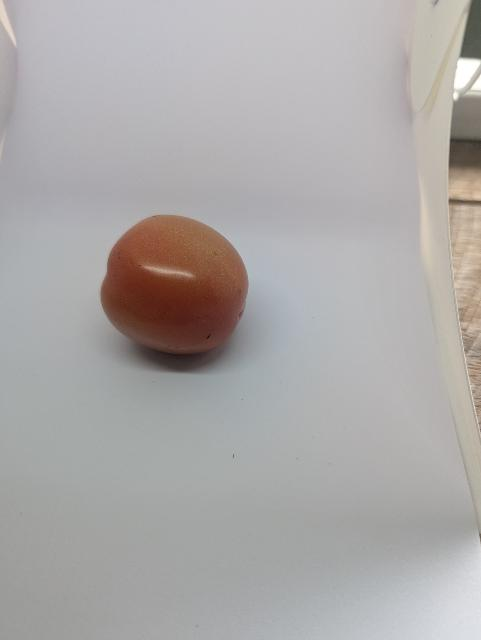red: (100, 202, 264, 379)
